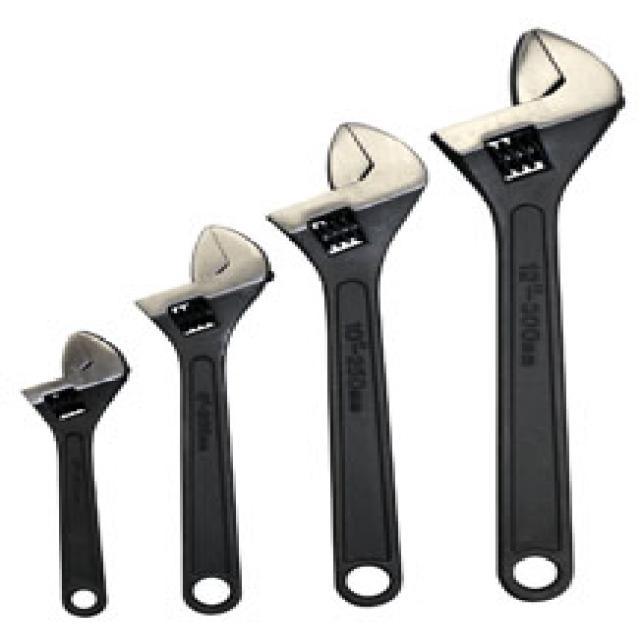wrench: (422, 11, 640, 596), (235, 106, 450, 618), (135, 202, 272, 635), (5, 319, 121, 615)
